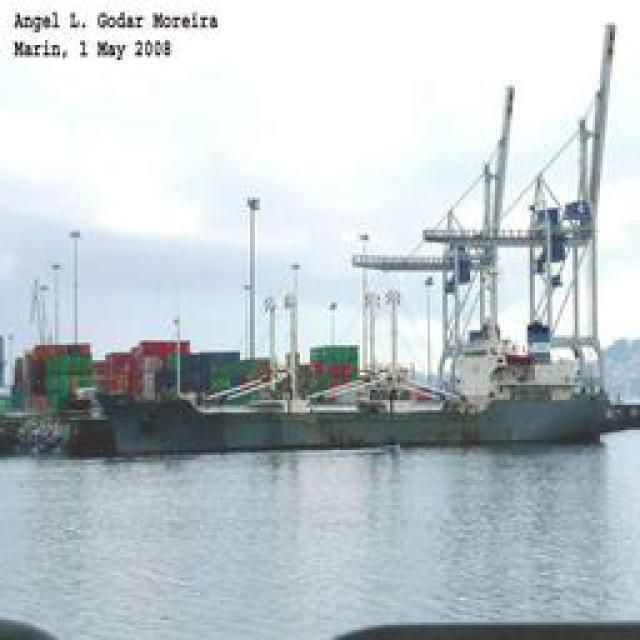Ship: (91, 319, 621, 466)
